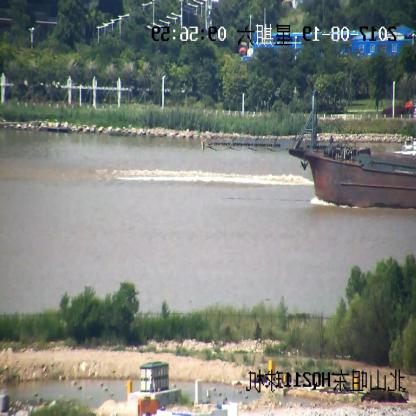Bulk Carrier: (207, 91, 415, 207)
